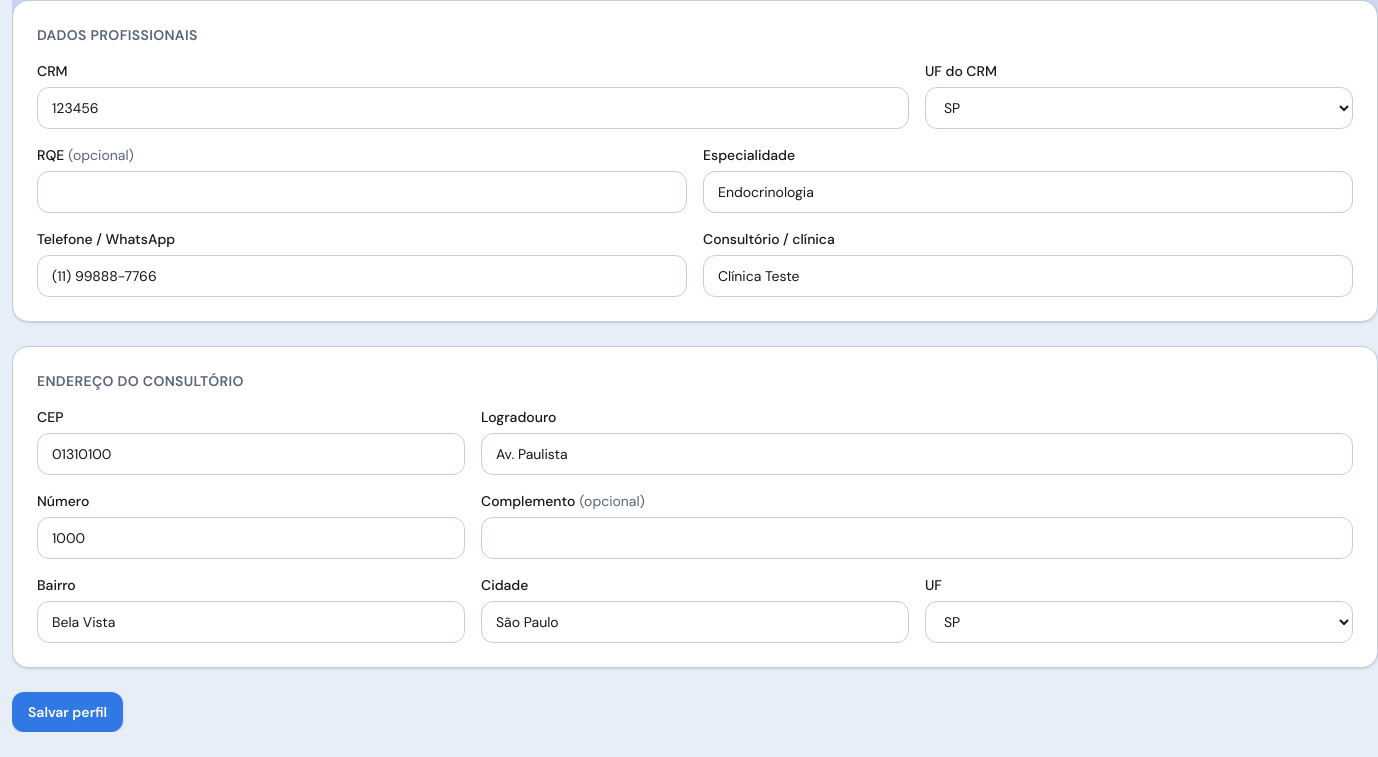
Scenario: DoctorProfileForm › shows phone validation error for short numbers
Replace the text in the field labelled "Telefone / WhatsApp" with "11999": (362, 276) x1=37 y1=255 x2=687 y2=297
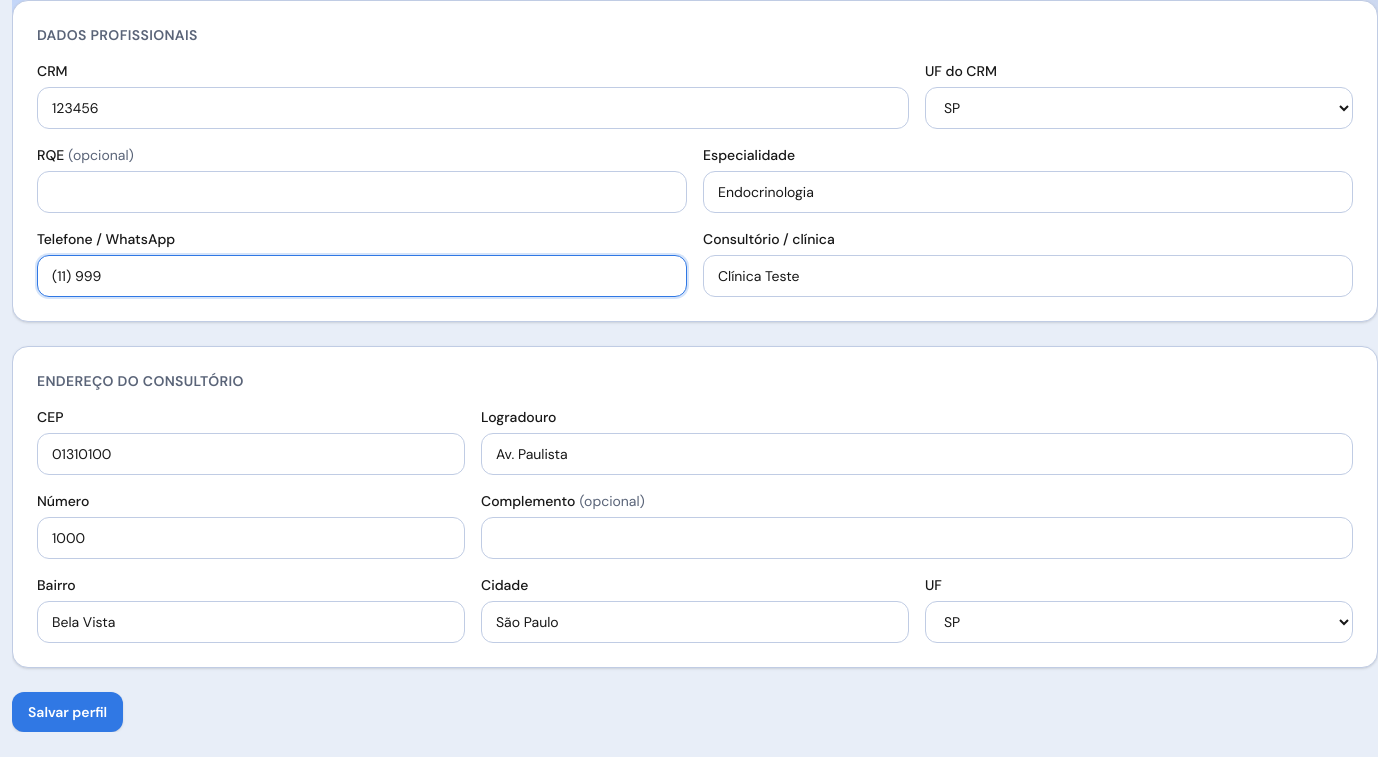
Click the button "Salvar perfil": click(68, 712) x1=12 y1=692 x2=123 y2=732
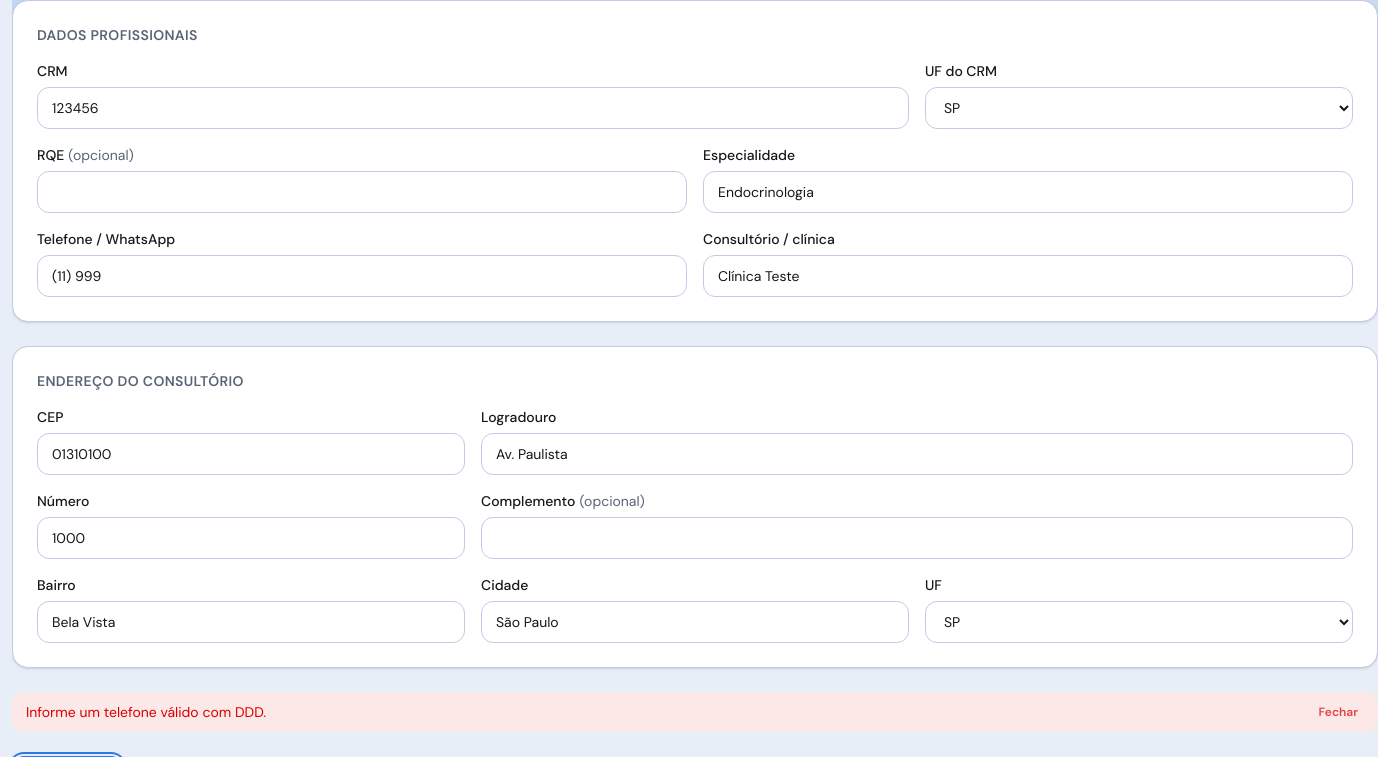
Result: the message shows "Informe um telefone válido com DDD." at x1=26 y1=703 x2=266 y2=721
